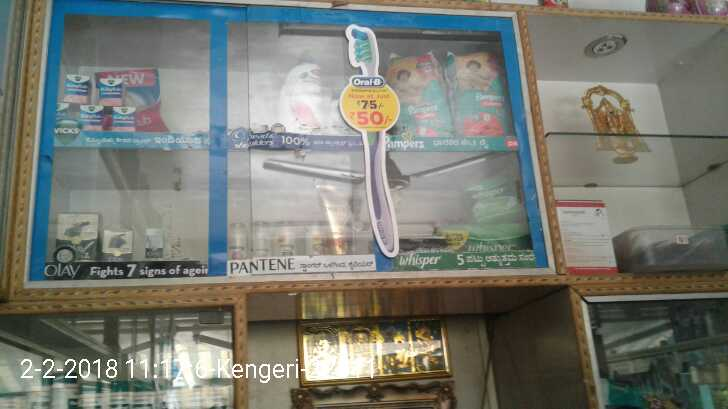beauty: (277, 46, 321, 134), (320, 181, 360, 259), (56, 209, 98, 267), (100, 223, 130, 263), (245, 222, 271, 263), (142, 223, 165, 261), (226, 218, 244, 259)
pharmacy: (443, 47, 511, 139), (372, 52, 440, 142), (458, 176, 523, 221), (63, 70, 91, 104), (108, 103, 137, 133), (96, 75, 124, 106), (82, 103, 100, 130)
